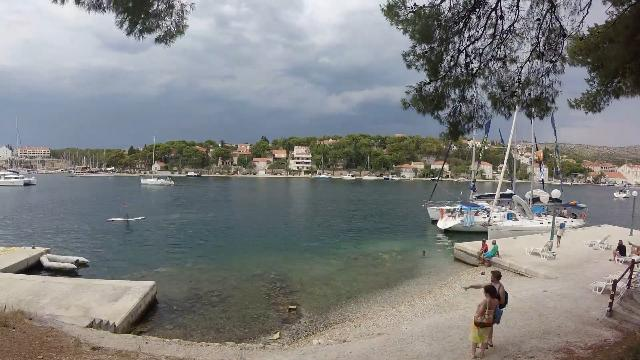Freighter: (68, 160, 124, 180)
Sailboat: (0, 163, 42, 189), (138, 172, 178, 188)
